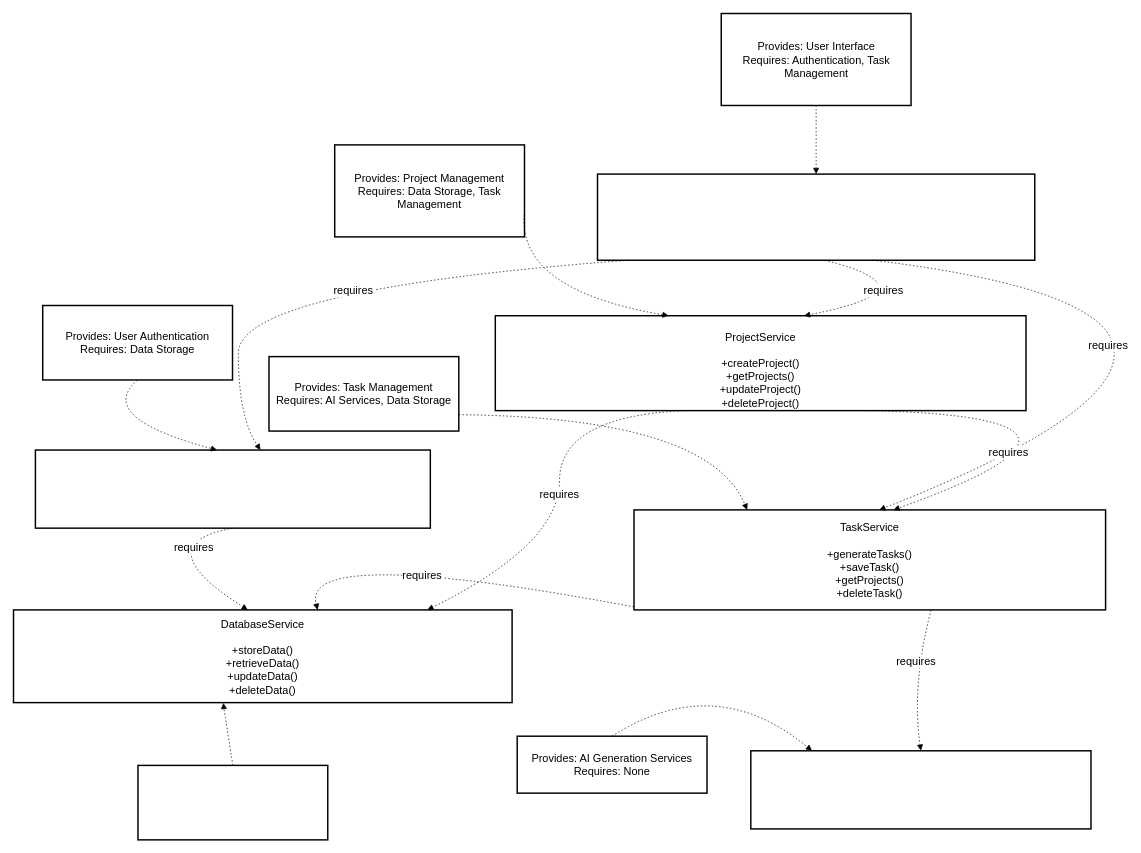
Image size: 1141x853. Some labels were removed from this diagram. Here are the shapes that lost their labels. From the top down, the box of each, then its label:
(596, 173, 1035, 261): UserInterface +login() +register() +viewProjects() +createTask()
(34, 449, 431, 529): AuthService +authenticate() +validateToken() +register()
(137, 764, 328, 840): Provides: Data Persistence Requires: None
(750, 750, 1091, 829): AIProvider +generateStory() +generateInsights()
